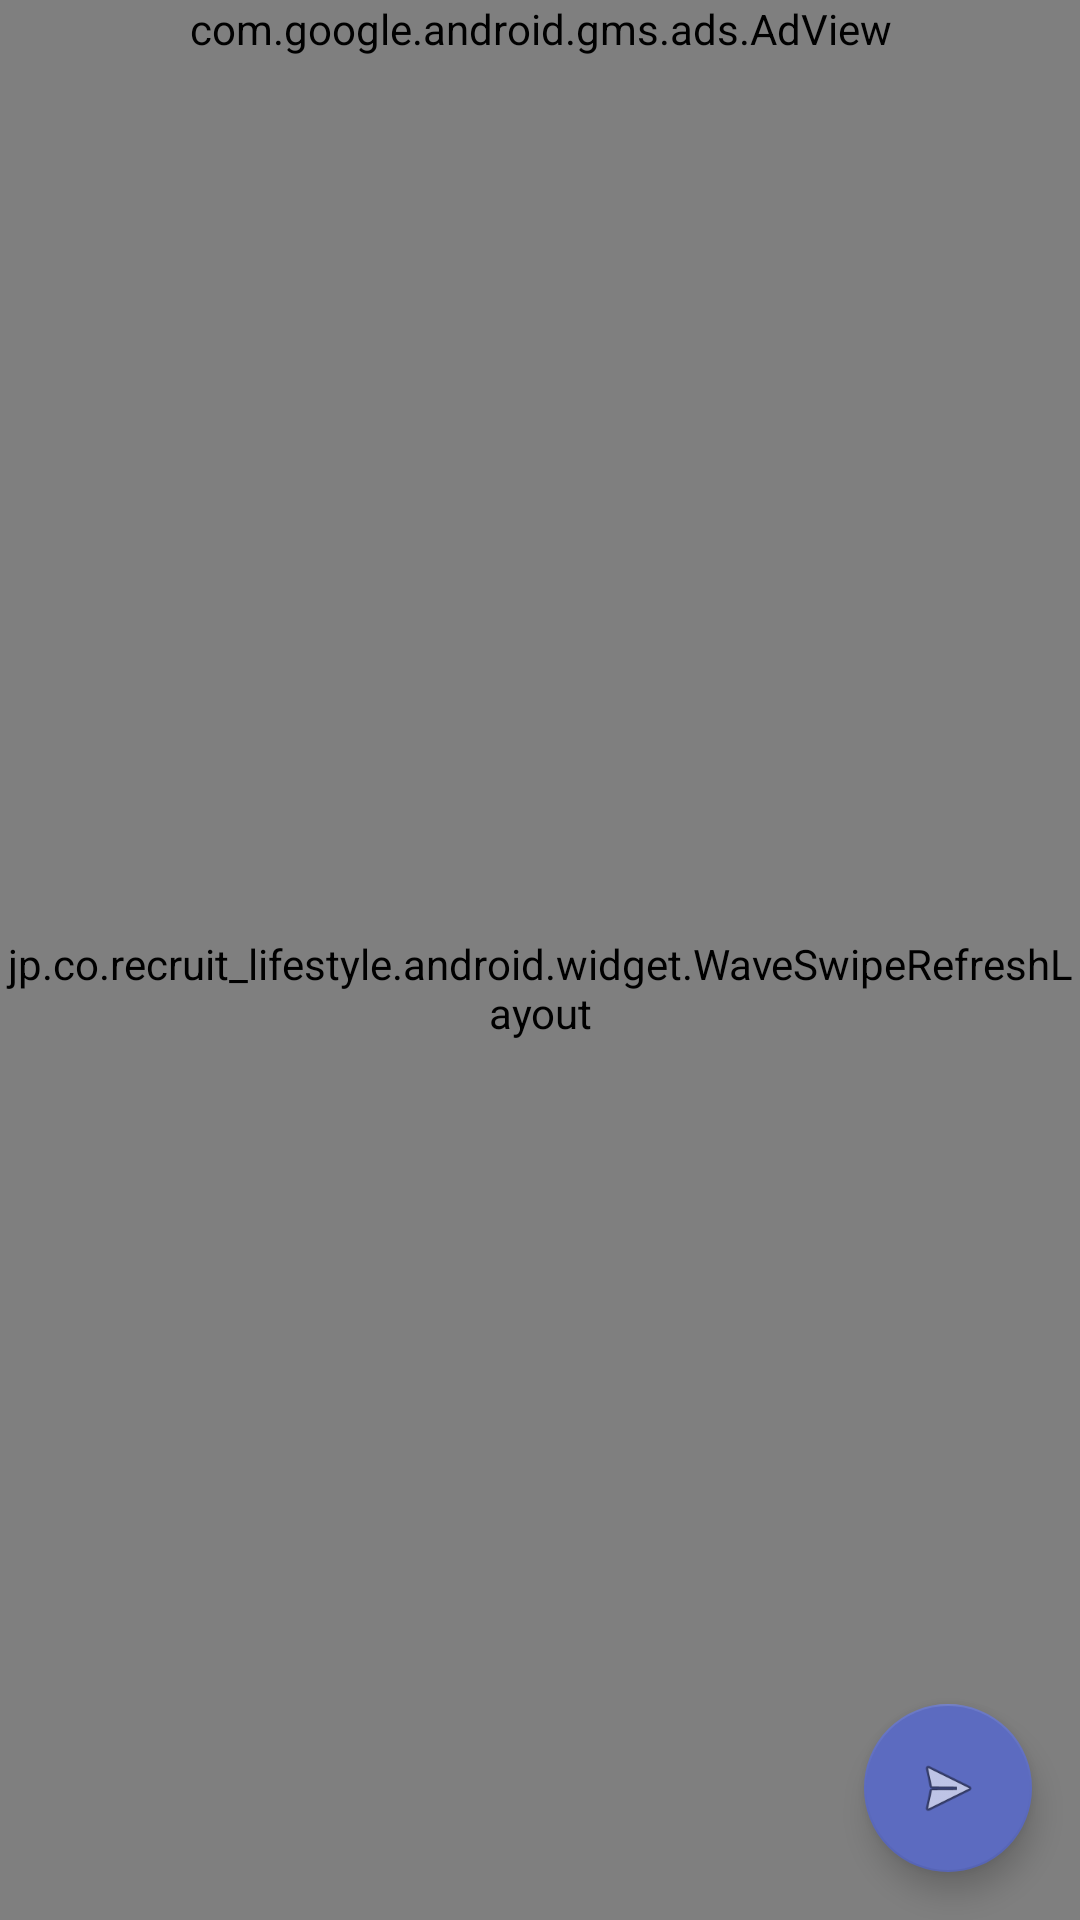

Icons on this 1080 x 1920 Android screen, each with its box as (x1, y1, x2, y2):
send: (864, 1704, 1032, 1872)
